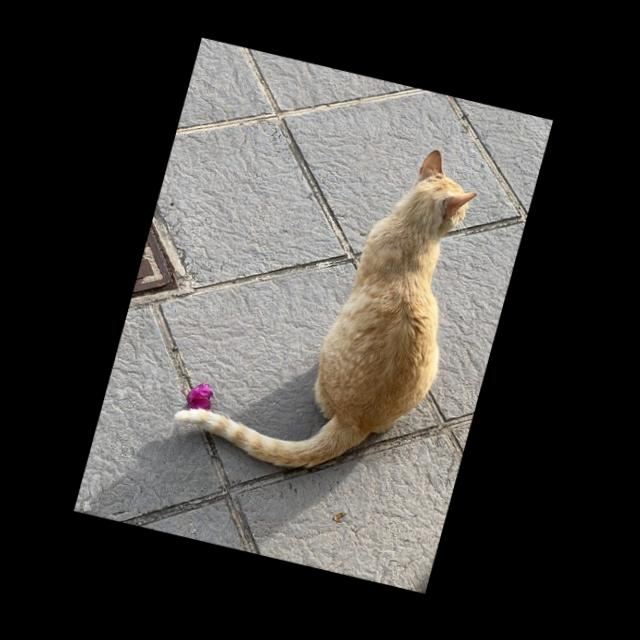animals: (169, 105, 497, 500)
